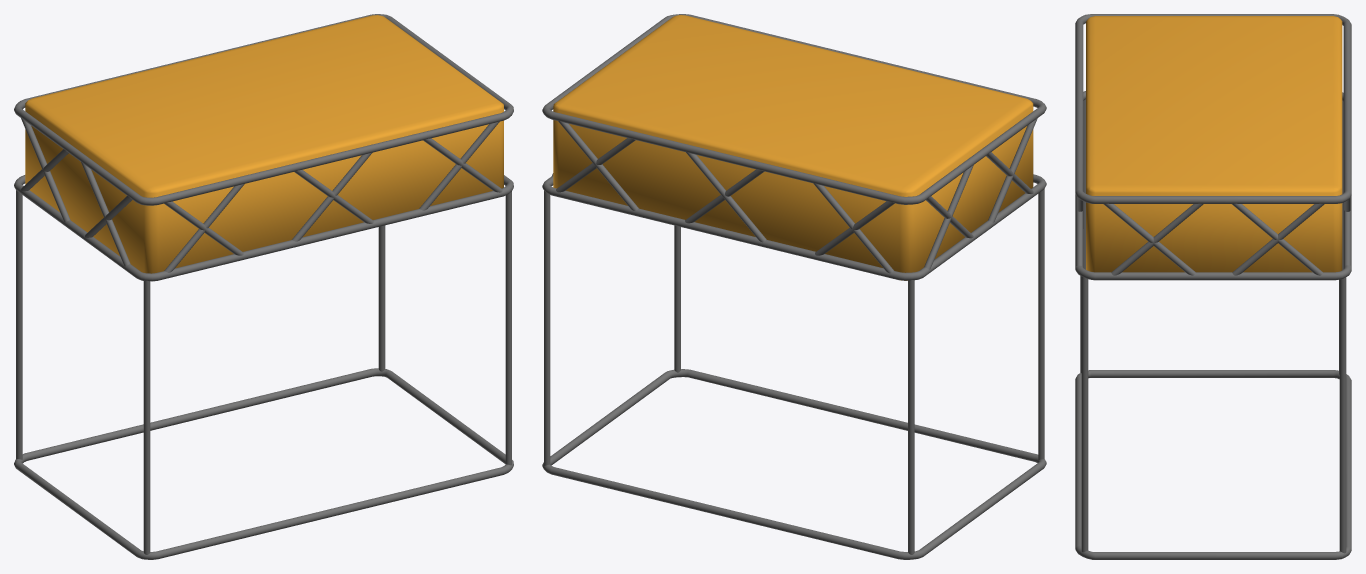
The model's file is andaime.fbx.
3 views of the same model, side by side, from view 1: azimuth 30°, elevation 25°; view 2: azimuth 150°, elevation 25°; view 3: azimuth 270°, elevation 25° (orthographic).
Visible parts, largest first — view 1: Andaime; view 2: Andaime; view 3: Andaime.
Part boxes in pixels (bbox=[...]): Andaime: bbox=[14, 14, 513, 559]; Andaime: bbox=[542, 14, 1046, 559]; Andaime: bbox=[1075, 14, 1351, 559].
Size of the model in its own units: 853 by 788 by 537.
